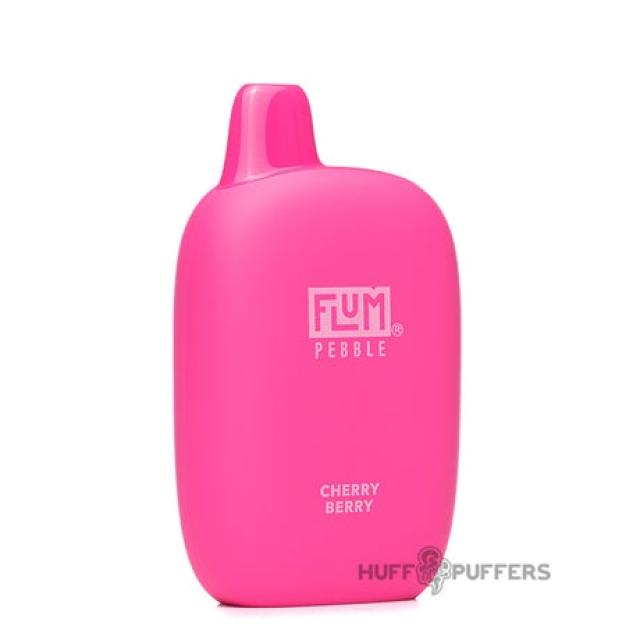Vapes: (161, 73, 574, 620)
